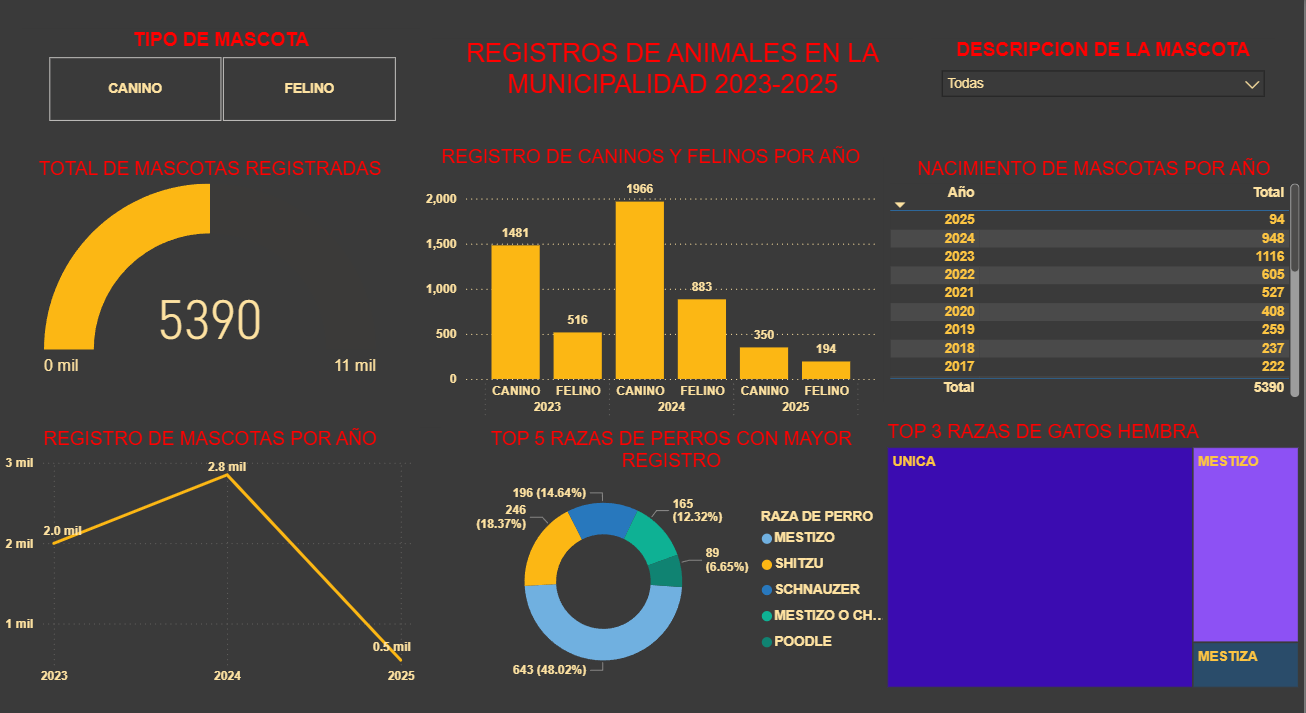

What the dashboard file says about the page in this screenshot:
{"tool":"powerbi","page":{"name":"Página 1","canvas":[1280,720],"ordinal":0},"visuals":[{"type":"gauge","title":"TOTAL DE MASCOTAS REGISTRADAS","fields":{"Y":["NORMALIZACION.Total_sin_blancos"]},"box":[0,160,412.6,221.3],"z":0},{"type":"lineChart","title":"REGISTRO DE MASCOTAS POR AÑO","fields":{"Category":["NORMALIZACION.REGISTRO_FECHA.Variación.Jerarquía de fechas.Año","NORMALIZACION.REGISTRO_FECHA.Variación.Jerarquía de fechas.Trimestre","NORMALIZACION.REGISTRO_FECHA.Variación.Jerarquía de fechas.Mes","NORMALIZACION.REGISTRO_FECHA.Variación.Jerarquía de fechas.Día"],"Y":["NORMALIZACION.total_animal"]},"box":[0,425.1,412.6,260.1],"z":1000},{"type":"clusteredColumnChart","title":"REGISTRO DE CANINOS Y FELINOS POR AÑO","fields":{"Category":["NORMALIZACION.REGISTRO_FECHA.Variación.Jerarquía de fechas.Año","NORMALIZACION.MASCOTA_ESPECIE"],"Y":["CountNonNull(NORMALIZACION.REGISTRO_FECHA)"]},"box":[412.8,148.9,453.3,275.6],"z":2000},{"type":"donutChart","title":"TOP 5 RAZAS DE PERROS CON MAYOR REGISTRO","fields":{"Category":["NORMALIZACION.MASCOTA_RAZA"],"Y":["NORMALIZACION.Total_sin_blancos"],"Series":["NORMALIZACION.MASCOTA_ESPECIE"]},"box":[433.3,424.1,451.7,261.3],"z":3000},{"type":"treemap","title":"TOP 3 RAZAS DE GATOS HEMBRA","fields":{"Group":["NORMALIZACION.MASCOTA_RAZA","NORMALIZACION.MASCOTA_SEXO","NORMALIZACION.MASCOTA_ESPECIE"],"Values":["NORMALIZACION.Total_sin_blancos"]},"box":[866.6,418.9,413.6,266.6],"z":4000},{"type":"tableEx","title":"NACIMIENTO DE MASCOTAS POR AÑO","fields":{"Values":["NORMALIZACION.MASCOTA_FECHA_NACIMIENTO.Variación.Jerarquía de fechas.Año","NORMALIZACION.Total_sin_blancos"]},"box":[867.4,159.4,412.8,240.4],"z":5000},{"type":"textbox","title":"REGISTROS DE ANIMALES EN LA MUNICIPALIDAD 2023-2025","box":[424.1,43.3,471.4,64.3],"z":6000},{"type":"slicer","title":"DESCRIPCION  DE LA MASCOTA","fields":{"Values":["NORMALIZACION.MASCOTA_DESCRIPCION"]},"box":[913.9,43.3,337.5,86.7],"z":7000},{"type":"slicer","title":"TIPO DE MASCOTA","fields":{"Values":["NORMALIZACION.MASCOTA_ESPECIE"]},"box":[22.3,32.8,390,97.2],"z":8000}]}

Visuals, with their boxes on the page's 1280x720 design canvas (x1, y1, x2, y2). These are canvas units, not pixel positions in the 1306x713 screenshot, which may show the page scaled, cropped or inside an application window:
"TOTAL DE MASCOTAS REGISTRADAS" gauge: <bbox>0, 160, 413, 381</bbox>
"REGISTRO DE MASCOTAS POR AÑO" lineChart: <bbox>0, 425, 413, 685</bbox>
"REGISTRO DE CANINOS Y FELINOS POR AÑO" clusteredColumnChart: <bbox>413, 149, 866, 424</bbox>
"TOP 5 RAZAS DE PERROS CON MAYOR REGISTRO" donutChart: <bbox>433, 424, 885, 685</bbox>
"TOP 3 RAZAS DE GATOS HEMBRA" treemap: <bbox>867, 419, 1280, 686</bbox>
"NACIMIENTO DE MASCOTAS POR AÑO" tableEx: <bbox>867, 159, 1280, 400</bbox>
"REGISTROS DE ANIMALES EN LA MUNICIPALIDAD 2023-2025" textbox: <bbox>424, 43, 896, 108</bbox>
"DESCRIPCION  DE LA MASCOTA" slicer: <bbox>914, 43, 1251, 130</bbox>
"TIPO DE MASCOTA" slicer: <bbox>22, 33, 412, 130</bbox>
